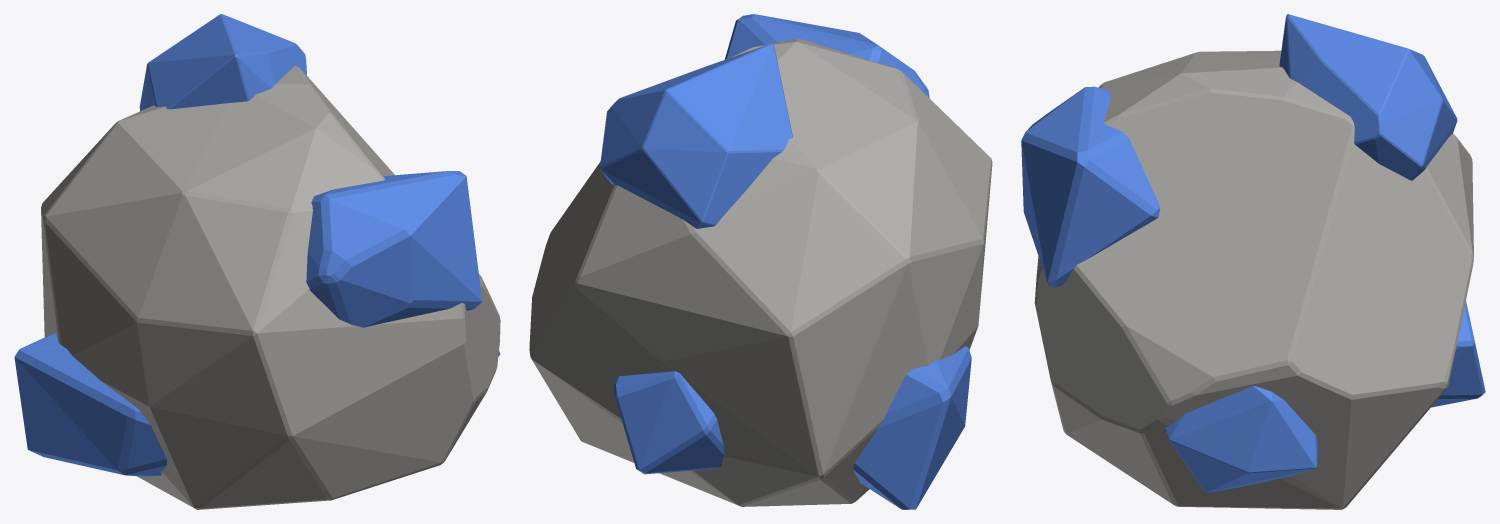
The model's file is cobalt_ore.glb.
The picture shows the model from 3 angles, left to right: view 1: azimuth 30°, elevation 25°; view 2: azimuth 150°, elevation 25°; view 3: azimuth 270°, elevation 25°; orthographic projection. The views are drawn at different scales.
Visible parts, largest first — view 1: CobaltOre; view 2: CobaltOre; view 3: CobaltOre.
Part boxes in pixels (x1,y1,x2,y2): CobaltOre: (14,14,500,509); CobaltOre: (529,14,992,509); CobaltOre: (1021,14,1485,509).
Bounding box in the file's own units: 0.263 × 0.2524 × 0.2406.
